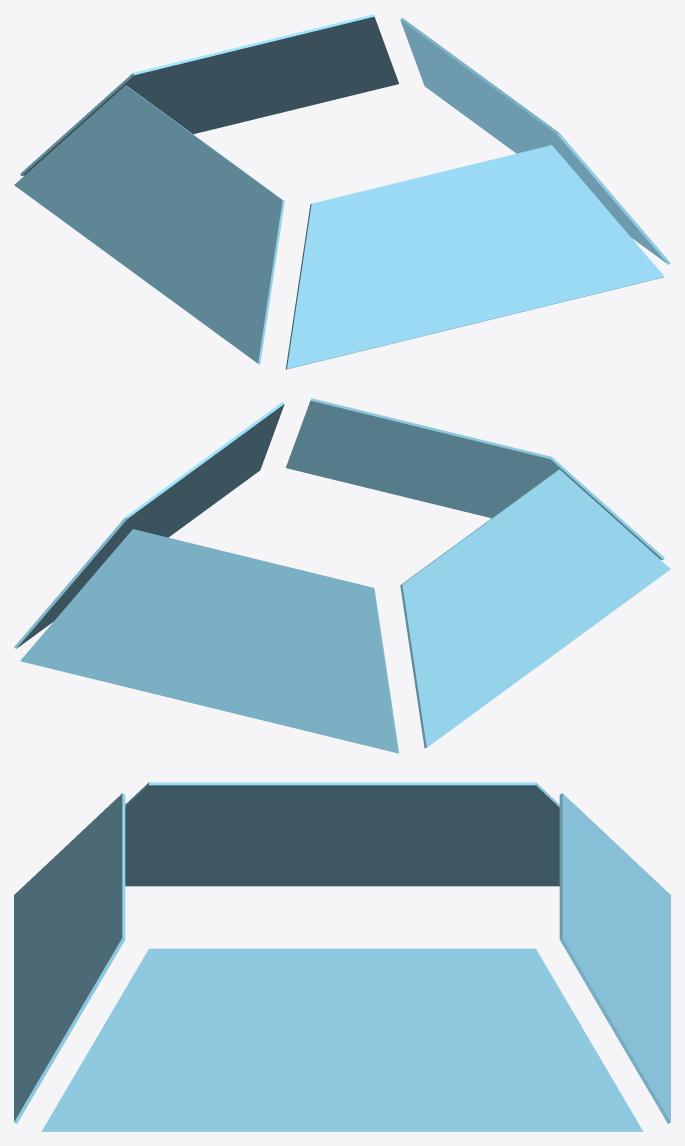
The model's file is Windows.glb.
3 renders of one model, top to bottom at view 1: azimuth 30°, elevation 25°; view 2: azimuth 150°, elevation 25°; view 3: azimuth 270°, elevation 25°, orthographic. The views are drawn at different scales.
Visible parts, largest first — view 1: Cube.132; view 2: Cube.132; view 3: Cube.132.
Part boxes in pixels (bbox=[...]): Cube.132: bbox=[14, 14, 670, 369]; Cube.132: bbox=[14, 398, 670, 753]; Cube.132: bbox=[14, 782, 670, 1131].
Bounding box in the file's own units: 0.052 × 0.0142 × 0.0582.
1 material, 1 textured.
